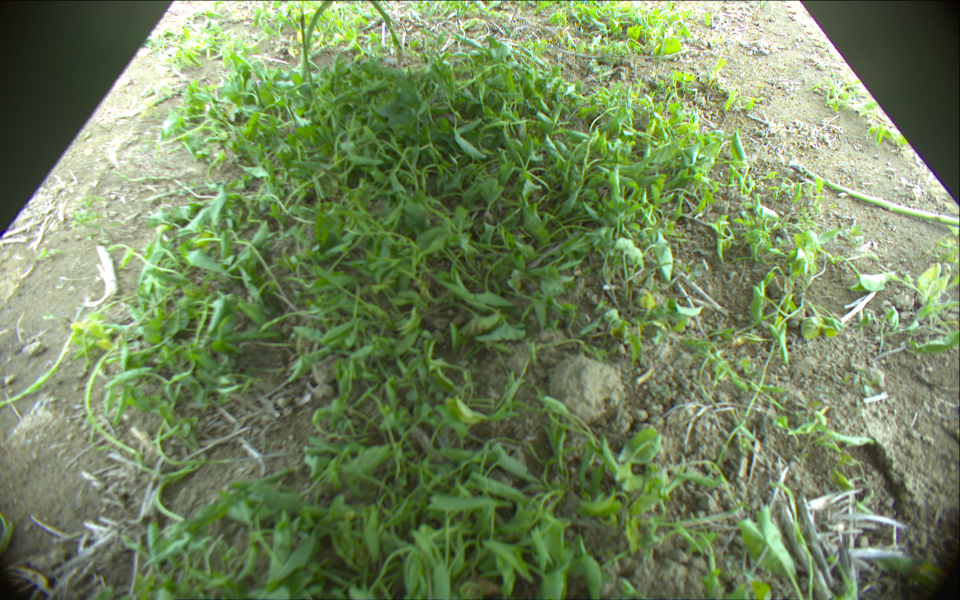aspa: (791, 163, 960, 227), (300, 12, 332, 140), (301, 1, 337, 77), (365, 1, 404, 65)
